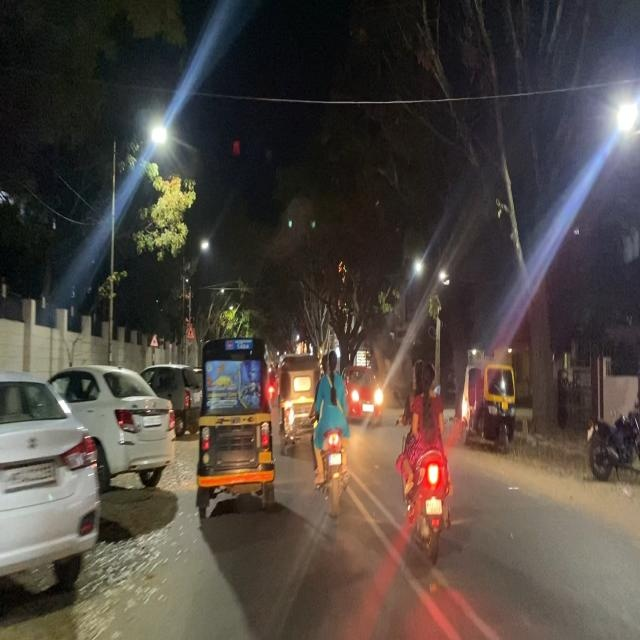bien_nguy_hiem: (187, 322, 194, 340)
